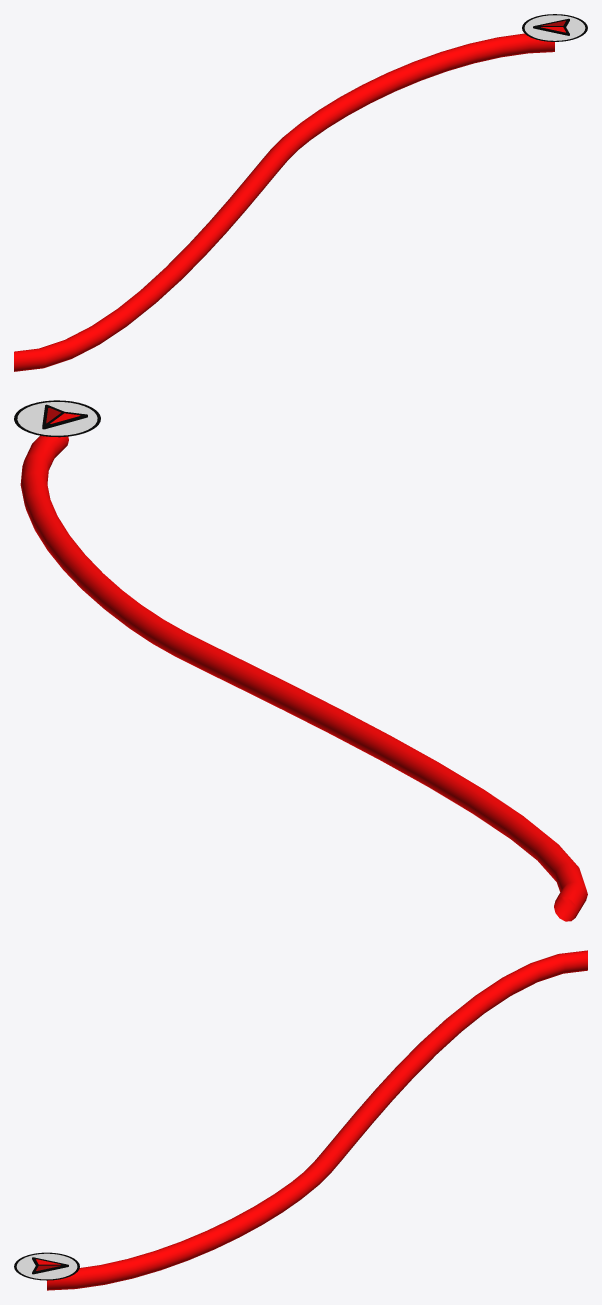
File: route_5ee763f2-1fdd-4eaf-9a35-3f4d9d9b9807_de_single.glb
The picture shows the model from 3 angles, top to bottom: view 1: azimuth 90°, elevation 25°; view 2: azimuth 150°, elevation 25°; view 3: azimuth 270°, elevation 25°; orthographic projection. The views are drawn at different scales.
Parts seen in each view (by area): view 1: A3, Abteil 4, Navipfeil.050; view 2: A3, Abteil 4, Navipfeil.050; view 3: A3, Abteil 4, Navipfeil.050.
Part boxes in pixels (x1,y1,x2,y2): A3, Abteil 4: (14, 33, 554, 371); Navipfeil.050: (522, 14, 587, 41); A3, Abteil 4: (20, 435, 587, 921); Navipfeil.050: (14, 400, 100, 437); A3, Abteil 4: (47, 950, 587, 1290); Navipfeil.050: (14, 1252, 79, 1280).
Size of the model in its own units: 3.14 by 0.1062 by 2.25.
